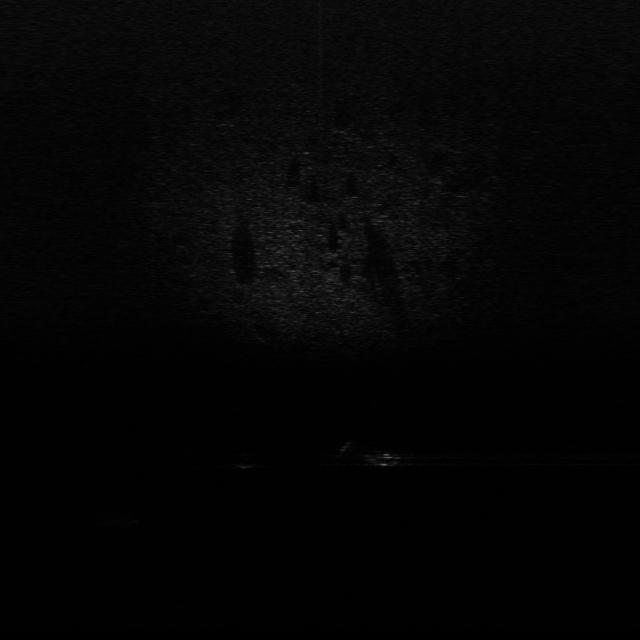ball: (234, 448, 258, 472)
circle cage: (93, 510, 136, 532)
human body: (331, 438, 438, 470)
